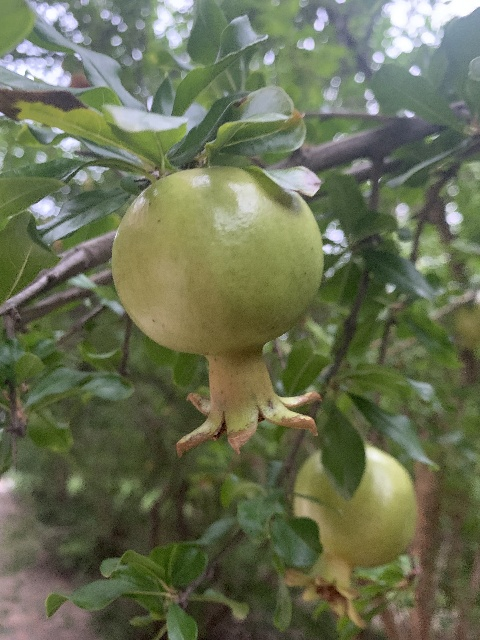mid-growth: (112, 164, 325, 457), (281, 441, 418, 627)
